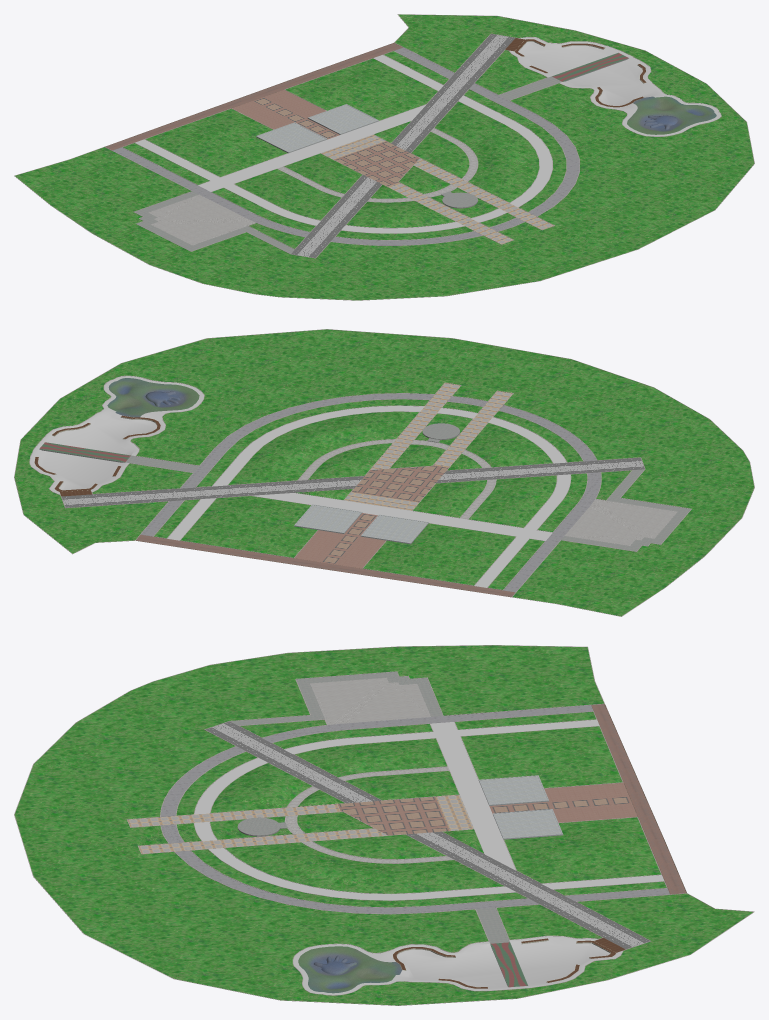
Rendered from central_park_site.FBX.
The picture shows the model from 3 angles, top to bottom: view 1: azimuth 30°, elevation 25°; view 2: azimuth 150°, elevation 25°; view 3: azimuth 270°, elevation 25°; orthographic projection. The views are drawn at different scales.
Visible parts, largest first — view 1: central_park_grass, central_park_kerbstone, central_park_sand_A1, central_park_paving_D, central_park_tile04, central_park_sand_A, central_park_paving_E, central_park_paving_C, central_park_paving_F, central_park_paving_B (×2), central_park_mat_B, central_park_tile01 (+6 smaller); view 2: central_park_grass, central_park_kerbstone, central_park_sand_A1, central_park_paving_D, central_park_tile04, central_park_sand_A, central_park_paving_E, central_park_paving_C, central_park_paving_F, central_park_paving_B (×2), central_park_mat_B, central_park_tile01 (+6 smaller); view 3: central_park_grass, central_park_kerbstone, central_park_sand_A1, central_park_paving_D, central_park_tile04, central_park_sand_A, central_park_paving_E, central_park_paving_C, central_park_paving_F, central_park_paving_B (×2), central_park_mat_B, central_park_tile01 (+6 smaller).
Boxes of the visible parts, x1,y1,x2,y2 form: central_park_grass: (15,14,754,300); central_park_kerbstone: (14,14,754,300); central_park_sand_A1: (509,37,720,136); central_park_paving_D: (291,34,515,257); central_park_tile04: (112,47,579,245); central_park_sand_A: (135,54,552,233); central_park_paving_E: (321,134,553,244); central_park_paving_C: (148,194,255,245); central_park_paving_F: (251,97,419,186); central_park_paving_B (×2): (135,76,561,253); central_park_mat_B: (198,104,426,191); central_park_tile01: (256,104,378,153); central_park_grass: (14,329,754,616); central_park_kerbstone: (14,329,754,616); central_park_sand_A1: (30,376,204,494); central_park_paving_D: (61,457,644,507); central_park_tile04: (141,393,601,592); central_park_sand_A: (167,405,570,587); central_park_paving_E: (344,383,512,510); central_park_paving_C: (565,499,677,545); central_park_paving_F: (320,465,448,564); central_park_paving_B (×2): (125,423,690,551); central_park_mat_B: (252,493,552,540); central_park_tile01: (294,504,428,544); central_park_grass: (14,645,752,1005); central_park_kerbstone: (14,645,754,1005); central_park_sand_A1: (293,936,622,995); central_park_paving_D: (205,721,649,949); central_park_tile04: (160,705,669,913); central_park_sand_A: (194,719,664,900); central_park_paving_E: (128,795,473,853); central_park_paving_C: (310,677,430,725); central_park_paving_F: (337,795,632,835); central_park_paving_B (×2): (230,672,509,943); central_park_mat_B: (430,722,515,870); central_park_tile01: (478,775,563,839).
Bounding box in the file's own units: 21074 × 184 × 18292.
